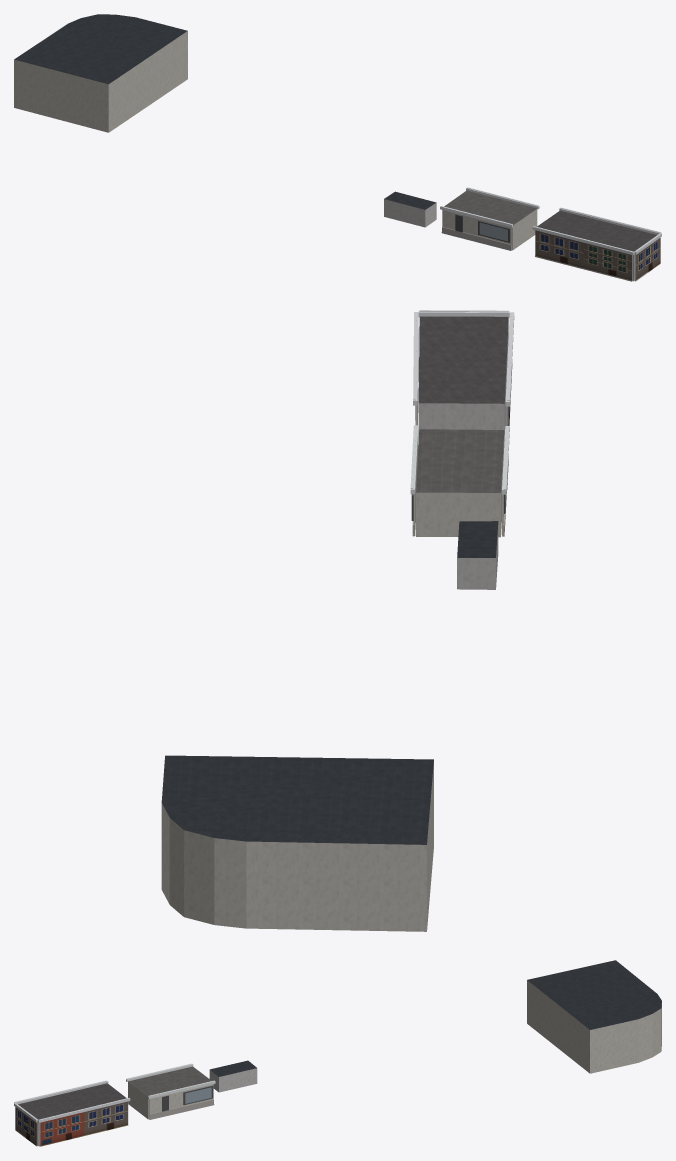
The picture shows the model from 3 angles, top to bottom: view 1: azimuth 30°, elevation 25°; view 2: azimuth 150°, elevation 25°; view 3: azimuth 270°, elevation 25°; orthographic projection. The views are drawn at different scales.
Visible parts, largest first — view 1: bldg_6004170014, bldg_6004170014_roof, bldg_6006403592_facade1, bldg_6006403592_roof, bldg_6004170021_facade0, bldg_6004170021_roof, bldg_6008396671, bldg_6006403592_facade0, bldg_6004170021, bldg_6008396671_roof, bldg_6006403592_facade2; view 2: bldg_6004170014, bldg_6004170014_roof, bldg_6006403592_roof, bldg_6004170021_roof, bldg_6004170021, bldg_6006403592, bldg_6008396671_roof, bldg_6008396671; view 3: bldg_6004170014, bldg_6004170014_roof, bldg_6006403592_facade2, bldg_6006403592_roof, bldg_6004170021_facade1, bldg_6004170021_roof, bldg_6008396671, bldg_6006403592_facade0, bldg_6004170021, bldg_6008396671_roof, bldg_6006403592_facade1.
Boxes of the visible parts, x1,y1,x2,y2 form: bldg_6004170014: [14, 31, 187, 132]; bldg_6004170014_roof: [14, 14, 187, 84]; bldg_6006403592_facade1: [532, 226, 634, 281]; bldg_6006403592_roof: [537, 210, 656, 251]; bldg_6004170021_facade0: [440, 206, 512, 250]; bldg_6004170021_roof: [444, 190, 536, 225]; bldg_6008396671: [384, 199, 436, 227]; bldg_6006403592_facade0: [634, 233, 661, 281]; bldg_6004170021: [511, 209, 537, 250]; bldg_6008396671_roof: [384, 191, 436, 209]; bldg_6006403592_facade2: [559, 207, 661, 234]; bldg_6004170014: [161, 762, 433, 931]; bldg_6004170014_roof: [161, 755, 433, 844]; bldg_6006403592_roof: [418, 316, 508, 403]; bldg_6004170021_roof: [416, 429, 504, 492]; bldg_6004170021: [416, 434, 504, 537]; bldg_6006403592: [418, 322, 508, 441]; bldg_6008396671_roof: [457, 521, 498, 557]; bldg_6008396671: [457, 525, 498, 589]; bldg_6004170014: [527, 980, 661, 1073]; bldg_6004170014_roof: [527, 960, 661, 1029]; bldg_6006403592_facade2: [37, 1098, 130, 1146]; bldg_6006403592_roof: [18, 1083, 126, 1119]; bldg_6004170021_facade1: [148, 1080, 215, 1119]; bldg_6004170021_roof: [128, 1066, 211, 1096]; bldg_6008396671: [209, 1068, 257, 1092]; bldg_6006403592_facade0: [14, 1103, 37, 1146]; bldg_6004170021: [128, 1082, 149, 1119]; bldg_6008396671_roof: [210, 1060, 256, 1076]; bldg_6006403592_facade1: [14, 1080, 108, 1104].
Bounding box in the file's own units: 50.54 × 7.16 × 96.19.
Materials: 12 (6 with a texture image).
